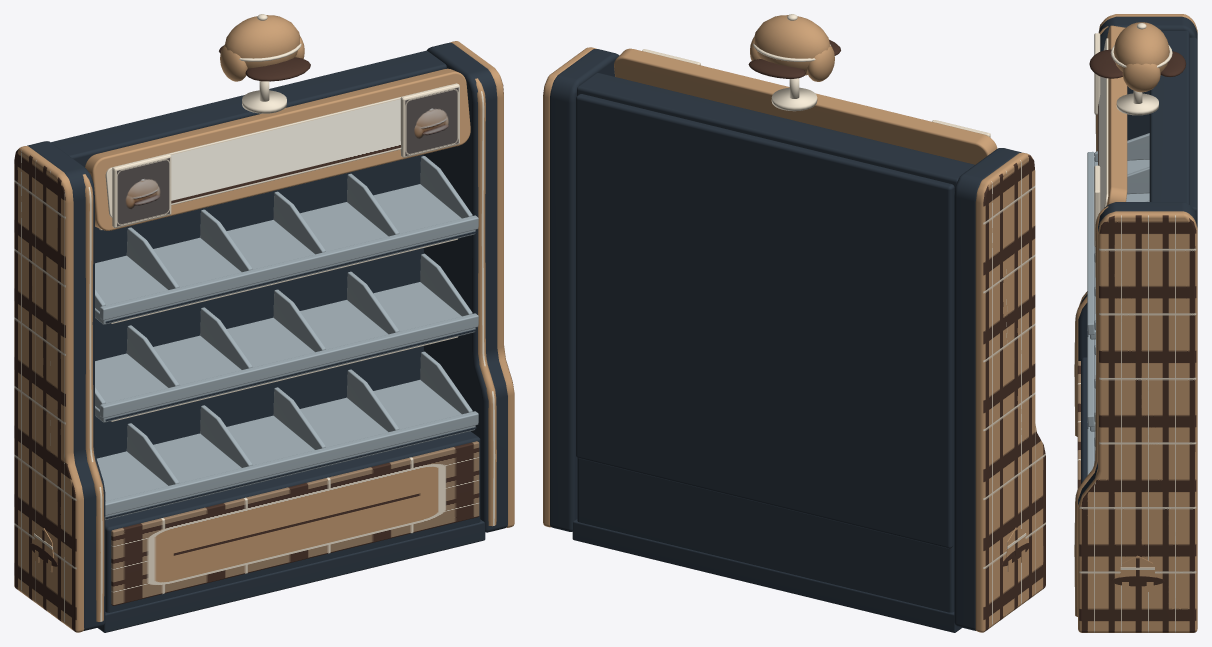
File: TH_DETECTIVE.fbx
The picture shows the model from 3 angles, left to right: view 1: azimuth 30°, elevation 25°; view 2: azimuth 150°, elevation 25°; view 3: azimuth 270°, elevation 25°; orthographic projection. The views are drawn at different scales.
Parts seen in each view (by area): view 1: BaseFrontInset, Left_PaintedPanel, BackPanel.001, Right_StructuralWall, Tray_01, Tray_02, Tray_03, HeaderFace, HeaderBorder, TopCrossRail, Left_StructuralWall, ClosedSolidBase (+34 smaller); view 2: BackPanel.001, Left_PaintedPanel, ClosedSolidBase, Right_StructuralWall, HeaderBorder, Left_StructuralWall, TopCrossRail, LowerPlinth, Right_PaintedPanel, Tweed cap, TopperMount, Rear visor; view 3: Right_PaintedPanel, TopCrossRail, HeaderBorder, Left_StructuralWall, Tweed cap, BackPanel.001, FrontLip_01, HeaderFace, RightHousing, Right_StructuralWall, Ear flap.001, ClosedSolidBase (+16 smaller).
Boxes of the visible parts, x1,y1,x2,y2 form: BaseFrontInset: (111, 441, 479, 605); Left_PaintedPanel: (14, 146, 84, 632); BackPanel.001: (95, 154, 423, 458); Right_StructuralWall: (424, 42, 507, 532); Tray_01: (95, 184, 475, 324); Tray_02: (95, 282, 475, 422); Tray_03: (97, 380, 475, 520); HeaderFace: (105, 85, 447, 217); HeaderBorder: (85, 68, 470, 230); TopCrossRail: (51, 50, 446, 166); Left_StructuralWall: (27, 141, 105, 630); ClosedSolidBase: (105, 431, 480, 612); BackPanel.001: (576, 94, 954, 548); Left_PaintedPanel: (975, 152, 1045, 632); ClosedSolidBase: (577, 458, 954, 612); Right_StructuralWall: (550, 49, 619, 531); HeaderBorder: (614, 48, 997, 164); Left_StructuralWall: (954, 148, 1021, 630); TopCrossRail: (577, 73, 974, 191); LowerPlinth: (572, 519, 961, 632); Right_PaintedPanel: (543, 47, 596, 527); Tweed cap: (754, 15, 830, 75); TopperMount: (771, 87, 817, 111); Rear visor: (748, 59, 805, 78); Right_PaintedPanel: (1078, 211, 1197, 632); TopCrossRail: (1149, 30, 1189, 204); HeaderBorder: (1106, 25, 1127, 205); Left_StructuralWall: (1078, 16, 1197, 360); Tweed cap: (1113, 22, 1169, 72); BackPanel.001: (1189, 37, 1197, 217); FrontLip_01: (1087, 151, 1094, 334); HeaderFace: (1098, 38, 1108, 211); RightHousing: (1074, 206, 1108, 616); Right_StructuralWall: (1078, 202, 1197, 505); Ear flap.001: (1122, 63, 1160, 92); ClosedSolidBase: (1081, 357, 1087, 483).
Size of the model in its own units: 3.62 by 4.29 by 0.9273.
